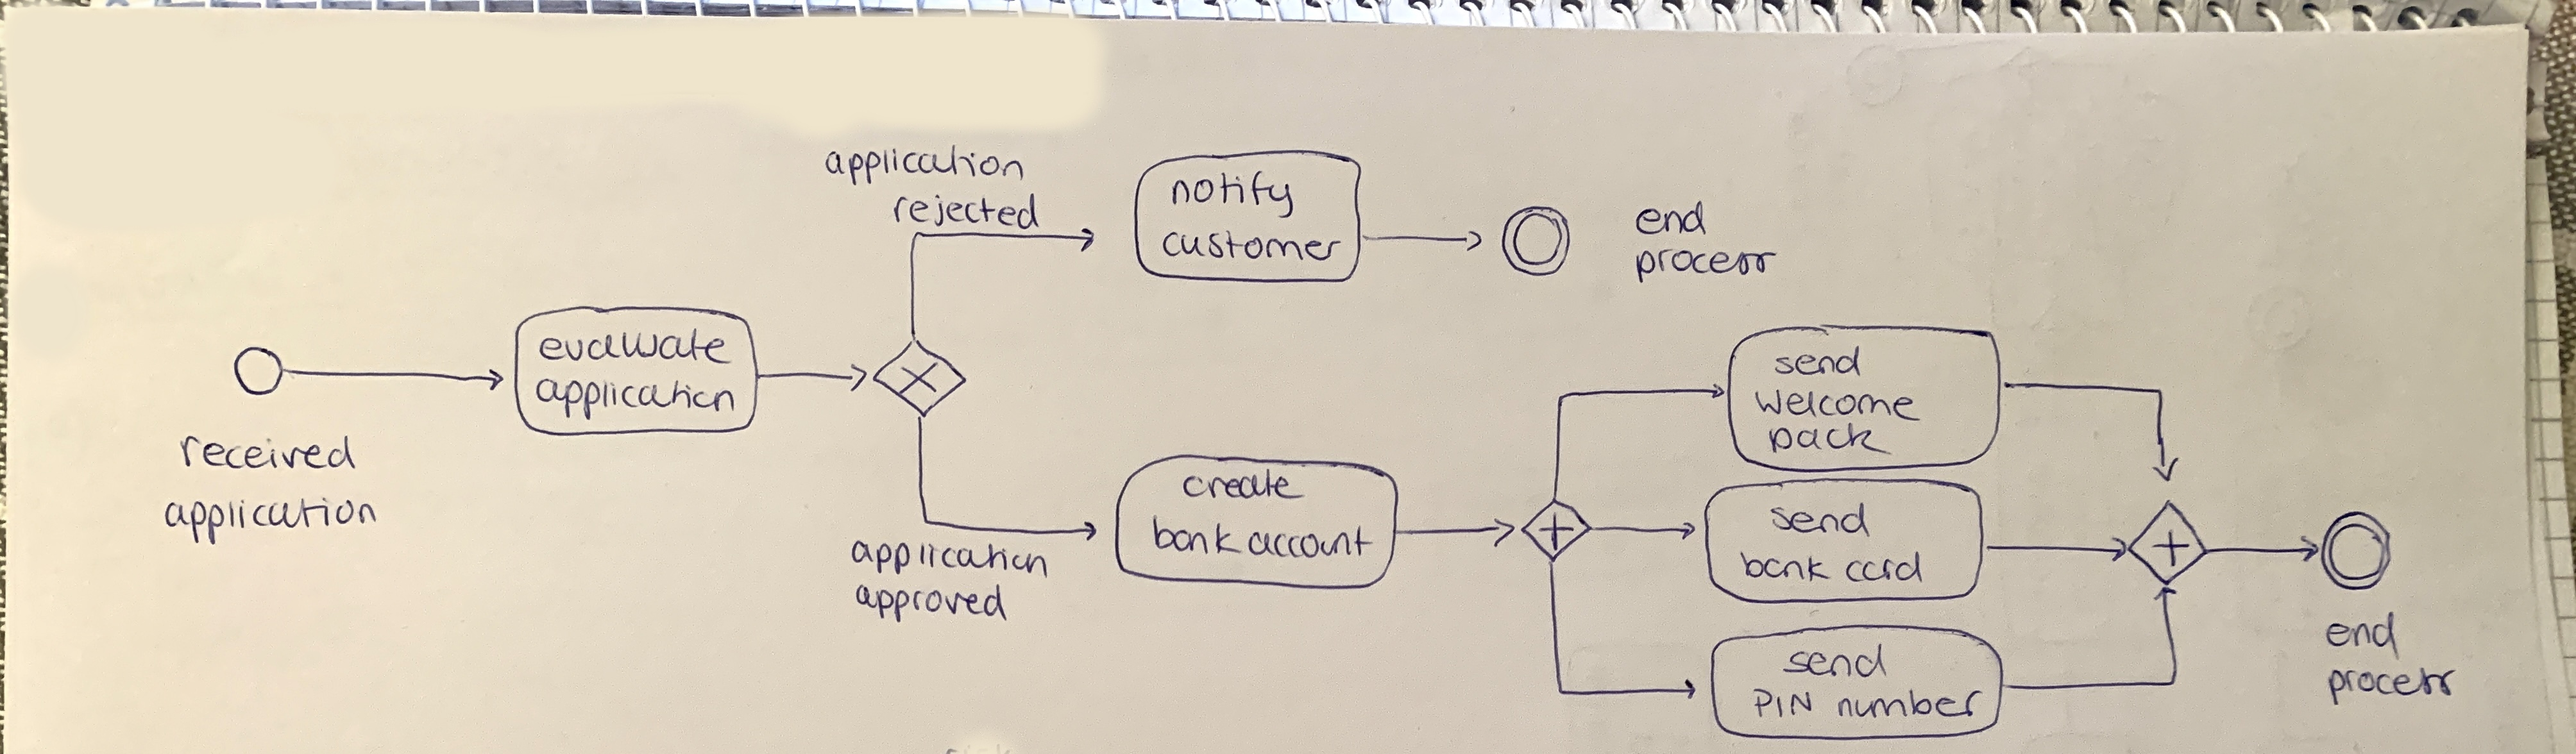PIN: (1746, 687, 1828, 721)
account: (1247, 522, 1375, 560)
application: (154, 494, 381, 550), (531, 368, 734, 424), (849, 531, 1053, 580), (823, 138, 1027, 186)
approved: (851, 577, 1012, 628)
bank: (1732, 545, 1840, 585), (1145, 517, 1249, 559)
card: (1840, 549, 1927, 586)
create: (1176, 470, 1308, 503)
customer: (1161, 222, 1337, 266)
end: (2316, 606, 2415, 662), (1631, 194, 1712, 243)
evaluate: (537, 327, 736, 368)
notify: (1171, 164, 1298, 220)
number: (1835, 685, 1985, 721)
pack: (1763, 421, 1889, 460)
process: (1628, 243, 1776, 289), (2325, 660, 2459, 703)
received: (169, 427, 375, 476)
rejected: (890, 189, 1043, 232)
send: (1779, 641, 1891, 682), (1776, 338, 1874, 379), (1768, 501, 1868, 539)
welcome: (1751, 383, 1920, 424)
